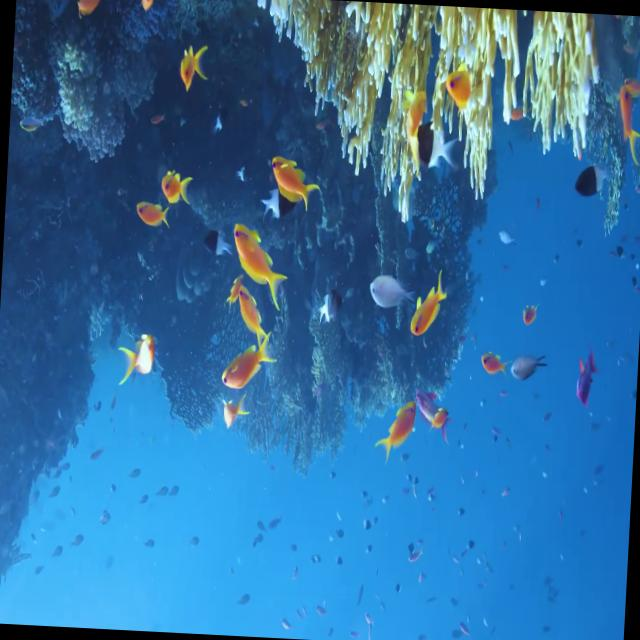fish: (225, 222, 299, 316), (262, 140, 328, 215), (397, 266, 456, 341), (110, 322, 160, 400), (219, 338, 275, 407), (408, 110, 467, 174), (371, 398, 421, 470), (169, 32, 212, 108), (229, 281, 270, 360), (361, 266, 414, 323), (569, 156, 617, 218), (563, 346, 606, 414), (503, 340, 554, 392), (132, 196, 176, 250), (609, 96, 640, 172), (408, 379, 458, 426), (155, 162, 194, 212), (200, 224, 237, 275), (256, 182, 294, 227), (316, 277, 344, 336), (477, 340, 507, 384), (68, 0, 104, 29), (614, 65, 640, 105), (137, 0, 155, 27)
